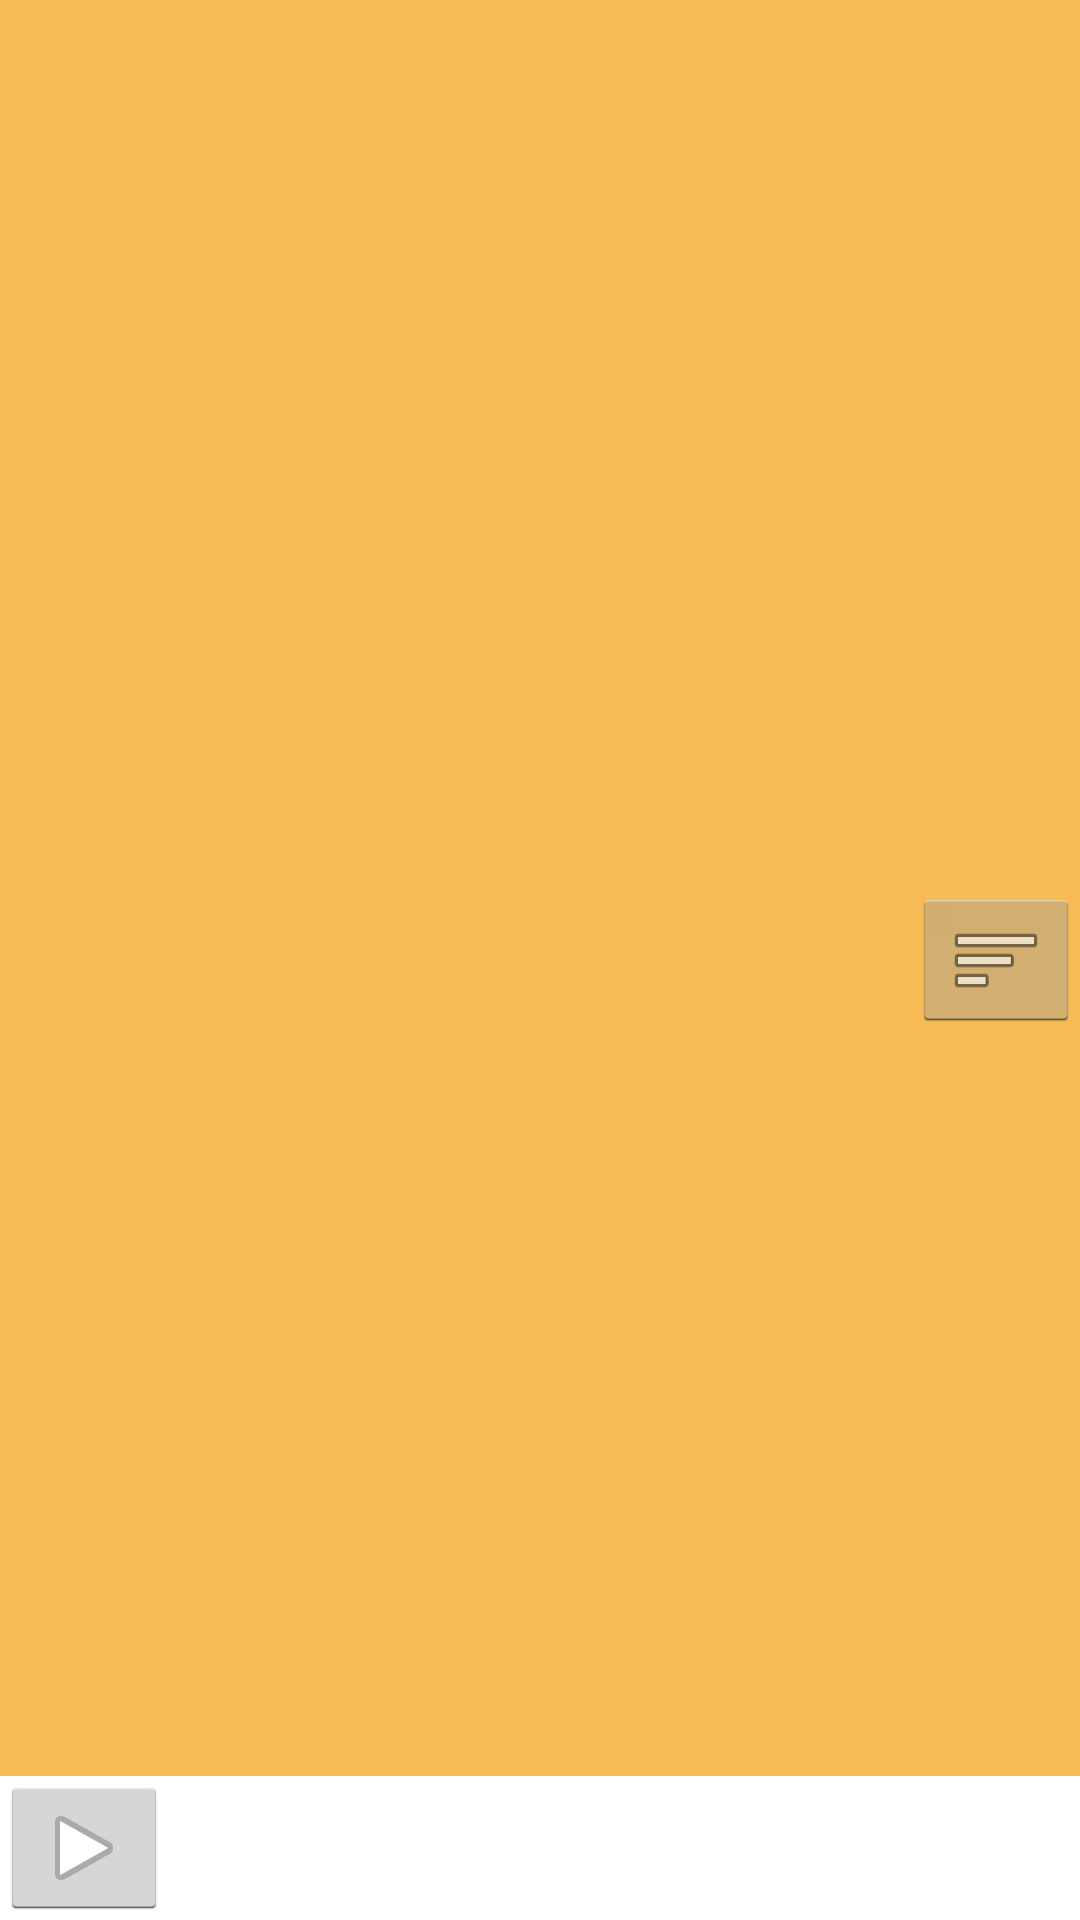

Where to tap for icons on this 1080px×1920px app screen, as (x=x, y=y):
play: (x=84, y=1849)
sort by size: (x=996, y=960)
